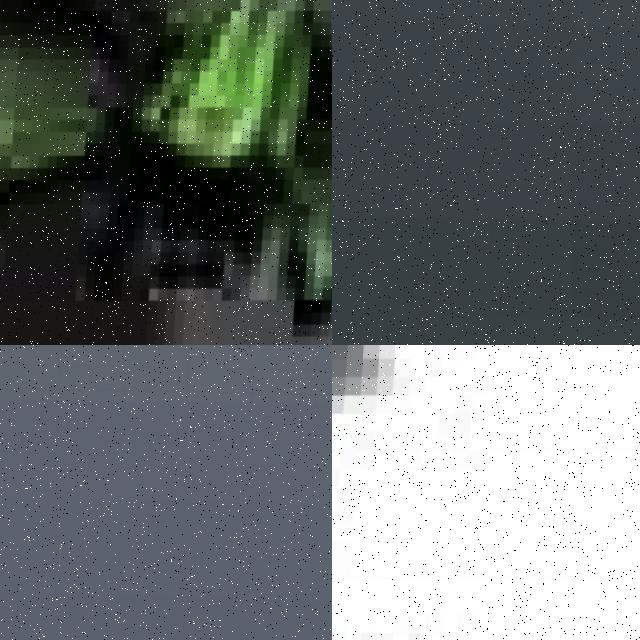0: (0, 0, 332, 345)
drone: (332, 345, 640, 640)
